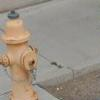Hydrant: (3, 5, 46, 100)
